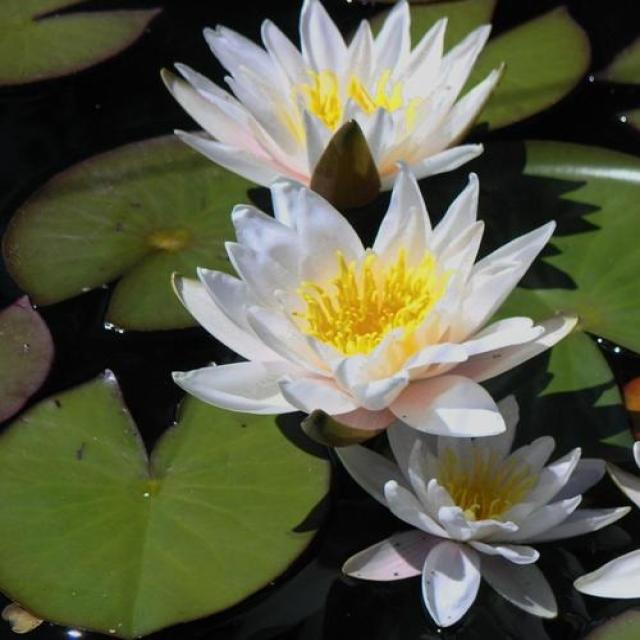rose: (105, 0, 639, 631)
